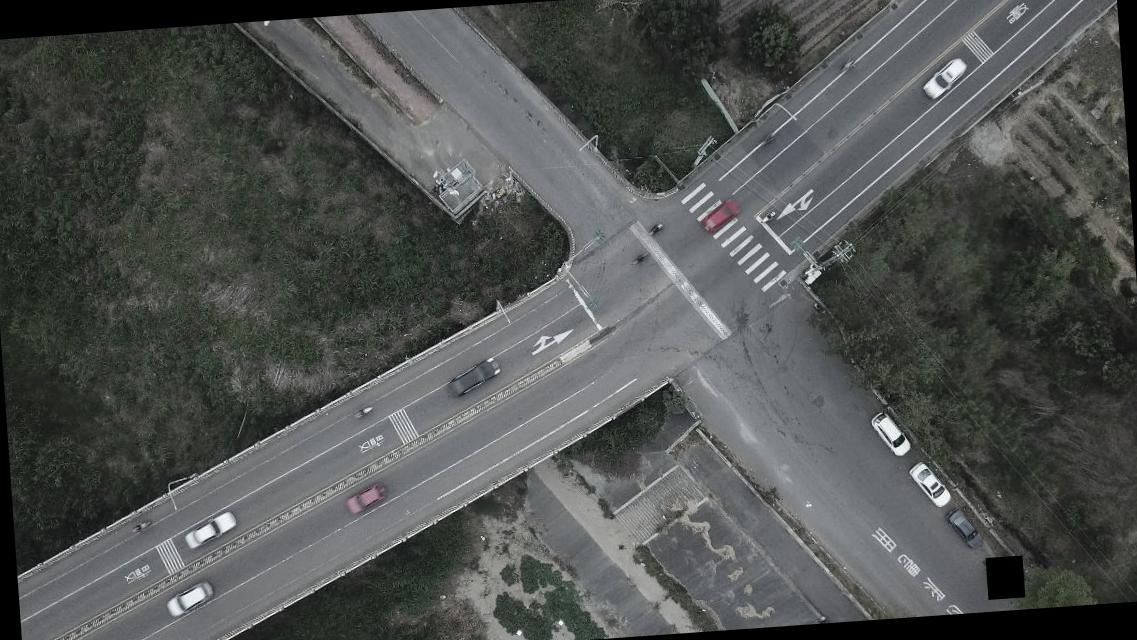vehicle: (446, 357, 503, 398), (183, 508, 240, 548), (909, 460, 953, 510), (868, 408, 912, 458), (918, 58, 969, 100), (164, 582, 216, 616), (945, 507, 983, 552), (343, 481, 391, 516), (697, 198, 740, 235)
